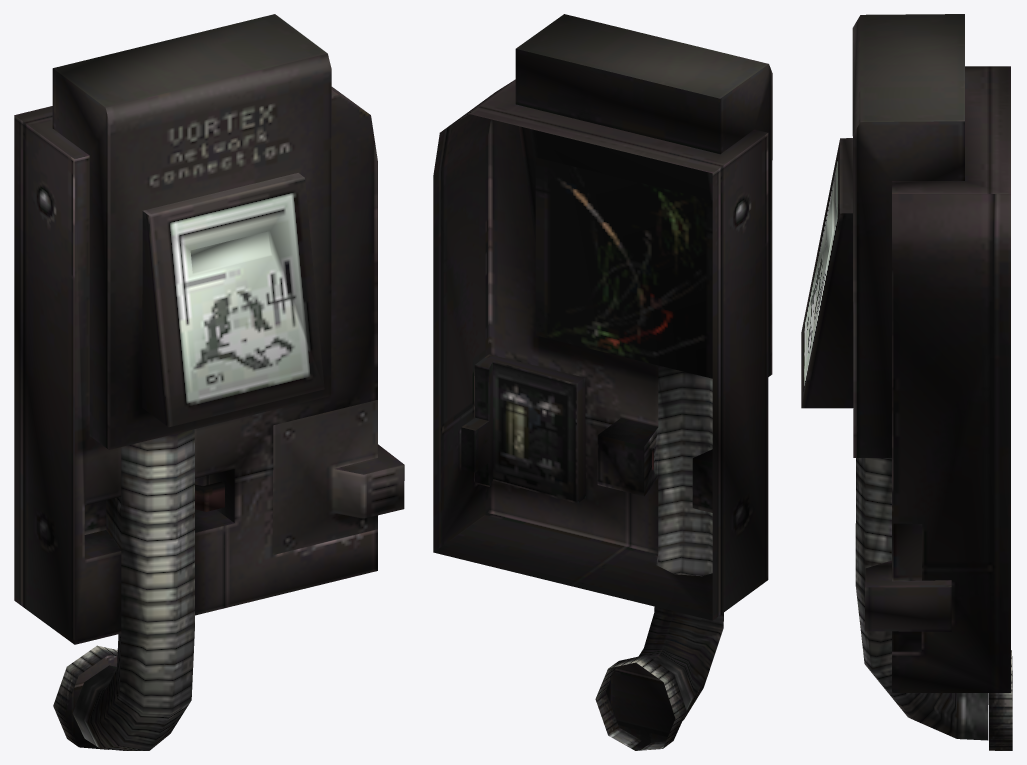
Rendered from connection_on.glb.
3 views of the same model, side by side, from view 1: azimuth 30°, elevation 25°; view 2: azimuth 150°, elevation 25°; view 3: azimuth 270°, elevation 25° (orthographic). The views are drawn at different scales.
Visible parts, largest first — view 1: __lithtech_lh_to_gltf_rh__, Box01; view 2: Box01, __lithtech_lh_to_gltf_rh__; view 3: Box01, __lithtech_lh_to_gltf_rh__.
Boxes of the visible parts, x1,y1,x2,y2 form: __lithtech_lh_to_gltf_rh__: (52,14,404,554); Box01: (14,87,377,750); Box01: (433,79,768,750); __lithtech_lh_to_gltf_rh__: (515,14,772,378); Box01: (855,66,1012,750); __lithtech_lh_to_gltf_rh__: (801,14,964,651).
Bounding box in the file's own units: 25.85 × 55.11 × 15.1.
Materials: 2 (2 with a texture image).
